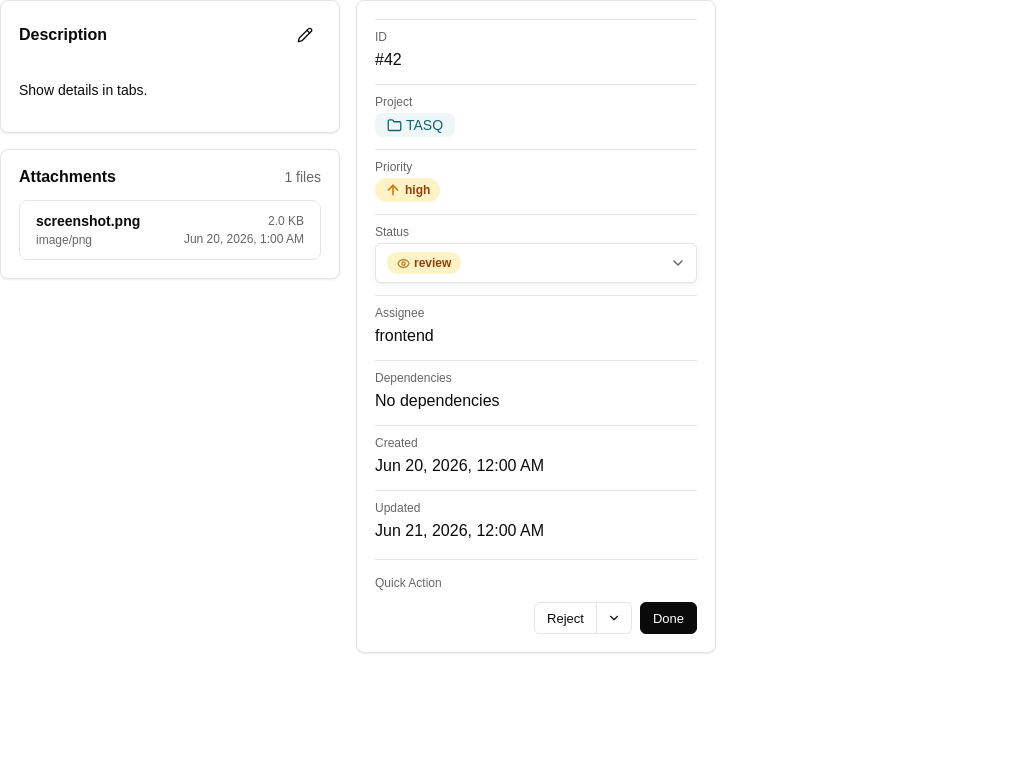
IssueDetailPage › requires reject request body before creating a change request
Click the button "Reject".
click(566, 618)  # box [534,602,597,634]
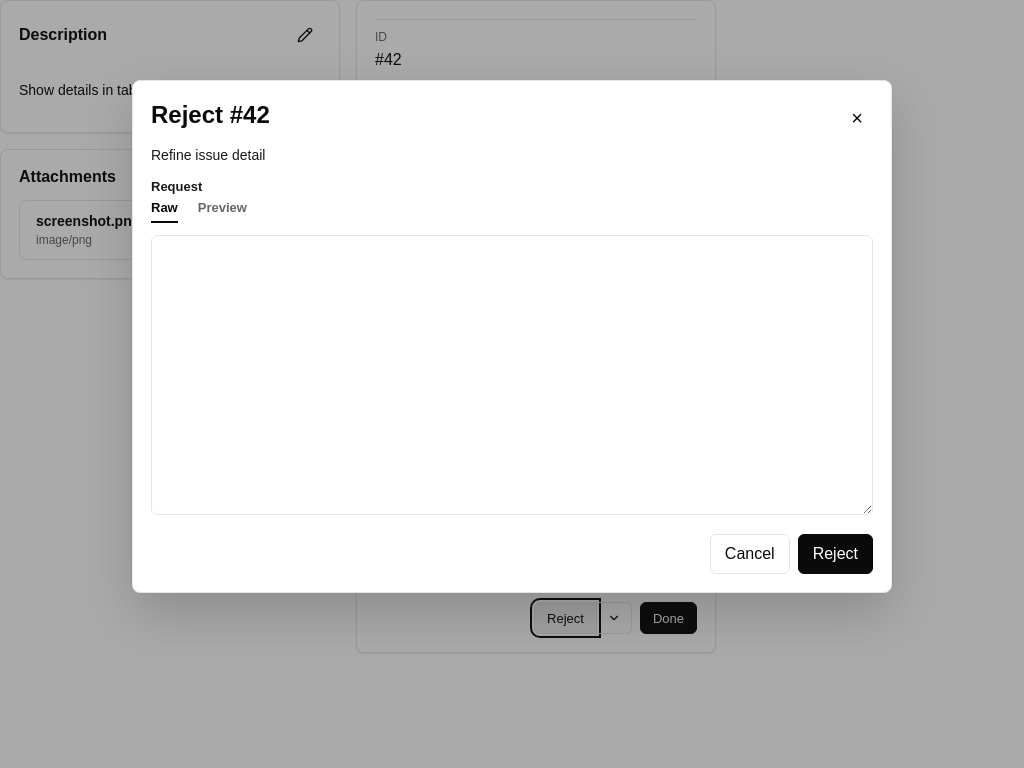
Click the button "Reject".
click(835, 554)  # box [798,534,873,574]
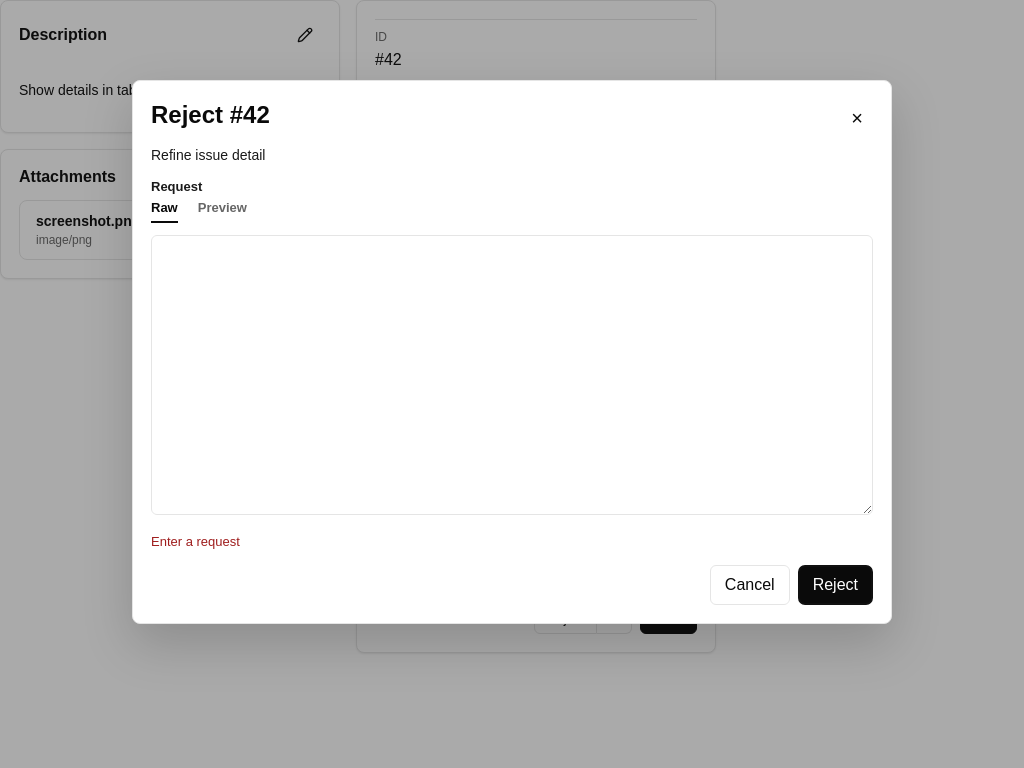
Expected: the text "Enter a request" is shown, [151,534,240,549]
